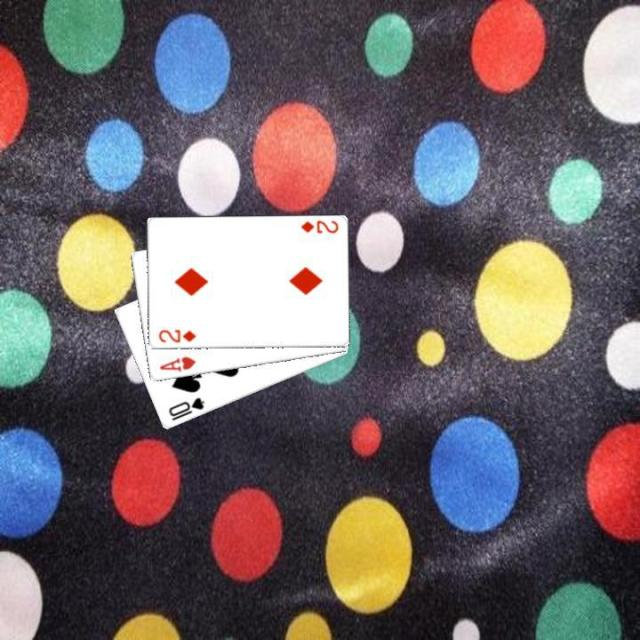10S: (164, 394, 207, 423)
2D: (155, 326, 197, 345), (297, 217, 339, 235)
AH: (156, 353, 198, 374)
